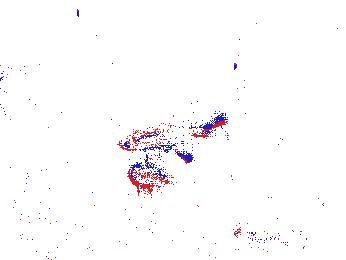X-ray fish: (126, 155, 174, 190)
red belly glassfish: (233, 224, 278, 247)
redtail glassfish: (117, 120, 219, 153)
